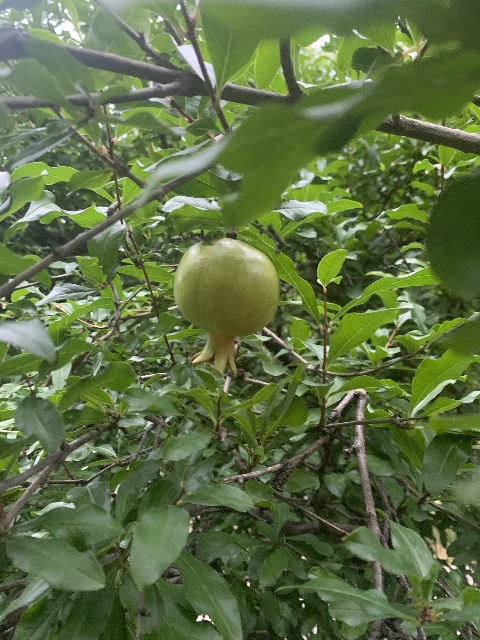mid-growth: (173, 237, 280, 379)
